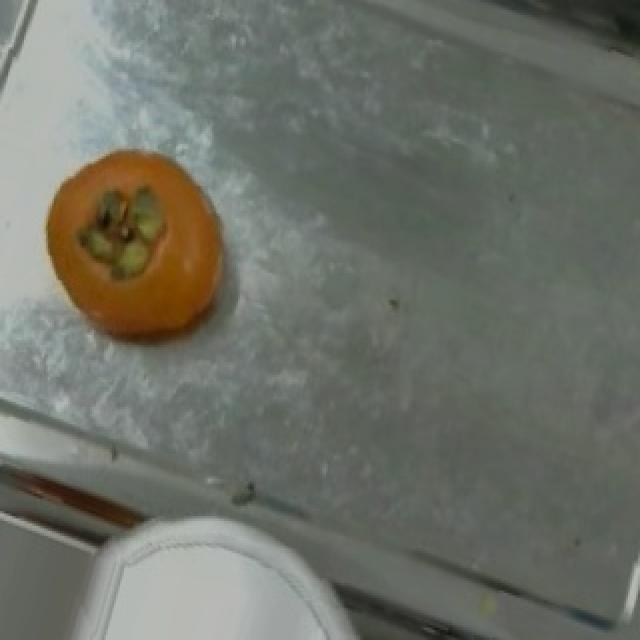Fruit: (16, 124, 250, 365), (82, 521, 344, 637)
